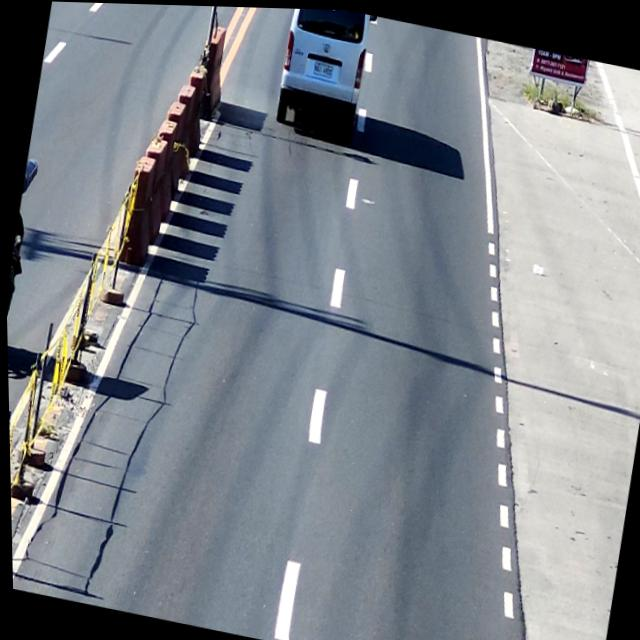Car: (271, 6, 373, 138)
License-Plate: (310, 56, 336, 78)
